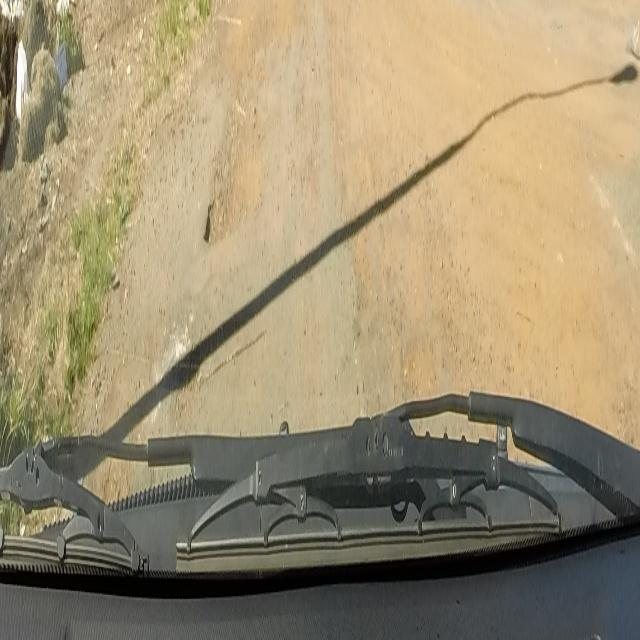pothole: (203, 152, 263, 245)
